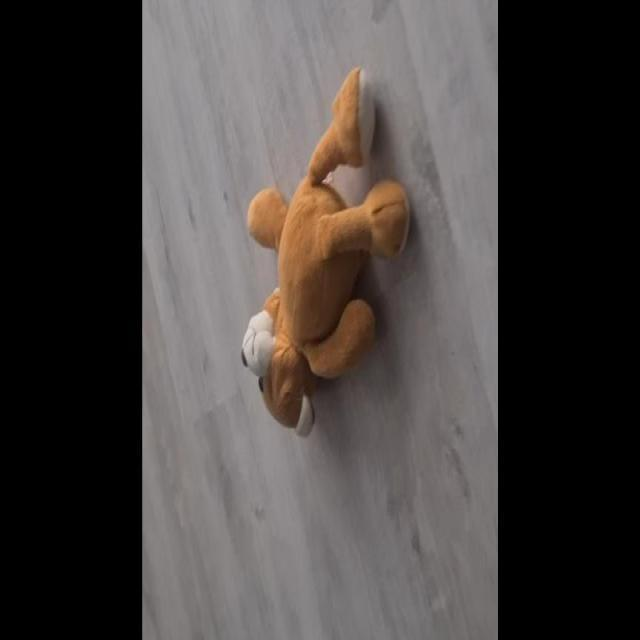soft-toy: (244, 69, 410, 435)
